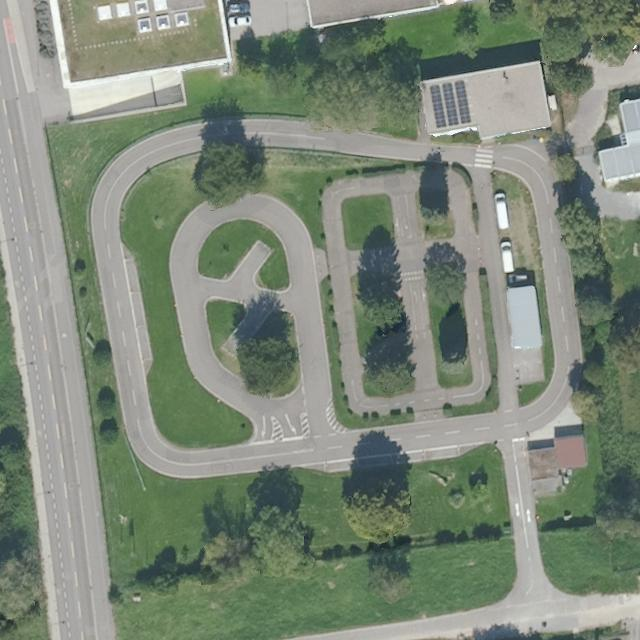PV: (427, 76, 475, 132)
